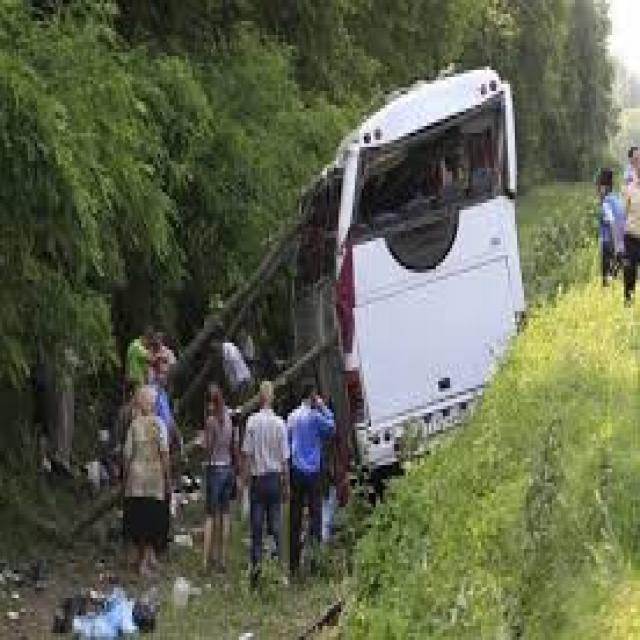accident: (187, 48, 559, 566)
